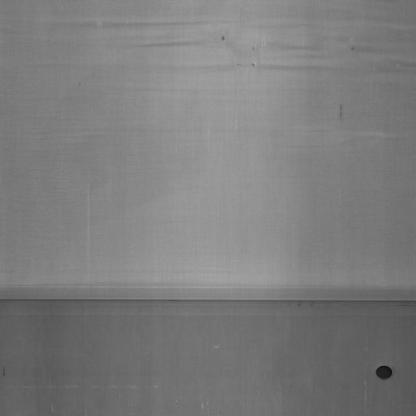punching_hole: (373, 356, 399, 390)
welding_line: (2, 285, 416, 325)
